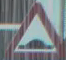Speed Breaker ahead: (3, 3, 60, 53)
